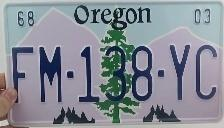1: (77, 44, 101, 103)
3: (100, 43, 129, 102)
8: (129, 43, 155, 102)
C: (193, 42, 219, 102)
F: (11, 45, 34, 104)
M: (36, 44, 61, 104)
Y: (167, 42, 193, 103)
